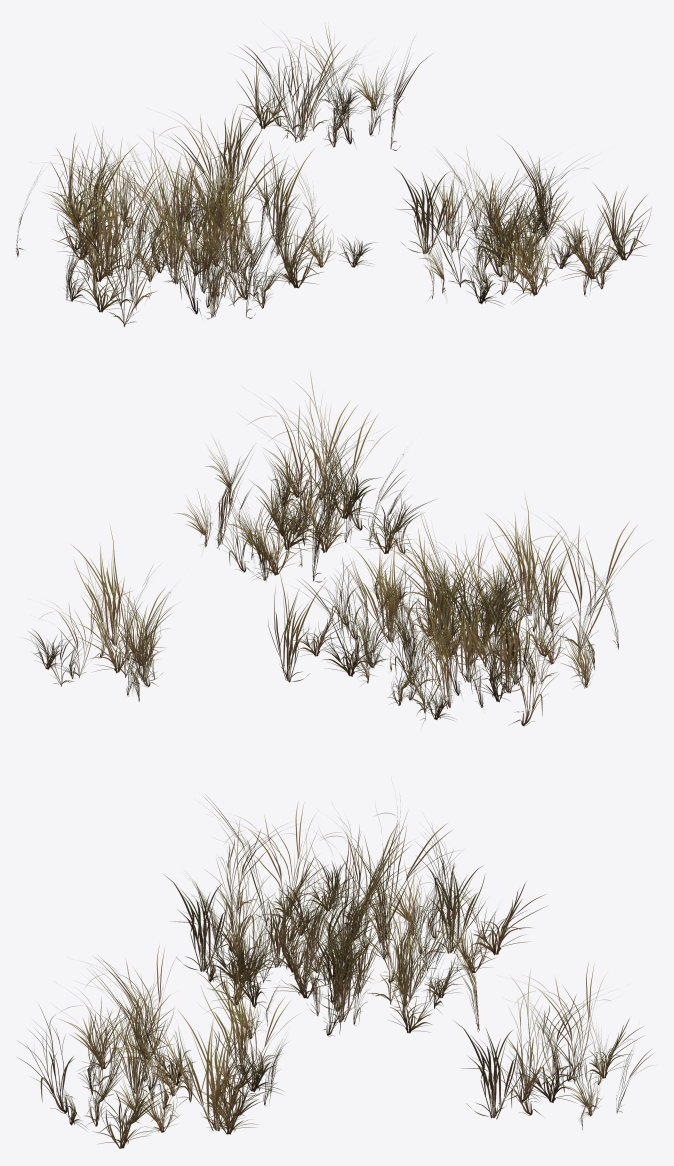
3 views of the same model, one above another, from view 1: azimuth 30°, elevation 25°; view 2: azimuth 150°, elevation 25°; view 3: azimuth 270°, elevation 25° (orthographic). The views are drawn at different scales.
Visible parts, largest first — view 1: grasspatch3, grasspatch1, grasspatch2; view 2: grasspatch3, grasspatch1, grasspatch2; view 3: grasspatch3, grasspatch1, grasspatch2.
Part boxes in pixels (box(x1,y1,x2,y2)): grasspatch3: box(16, 106, 375, 326); grasspatch1: box(394, 139, 651, 306); grasspatch2: box(237, 26, 431, 150); grasspatch3: box(268, 496, 646, 726); grasspatch1: box(175, 372, 435, 582); grasspatch2: box(28, 526, 174, 701); grasspatch3: box(164, 795, 546, 1039); grasspatch1: box(17, 945, 295, 1148); grasspatch2: box(454, 963, 653, 1130).
Bounding box in the file's own units: 507 × 129 × 524.
Materials: 1 (1 with a texture image).
